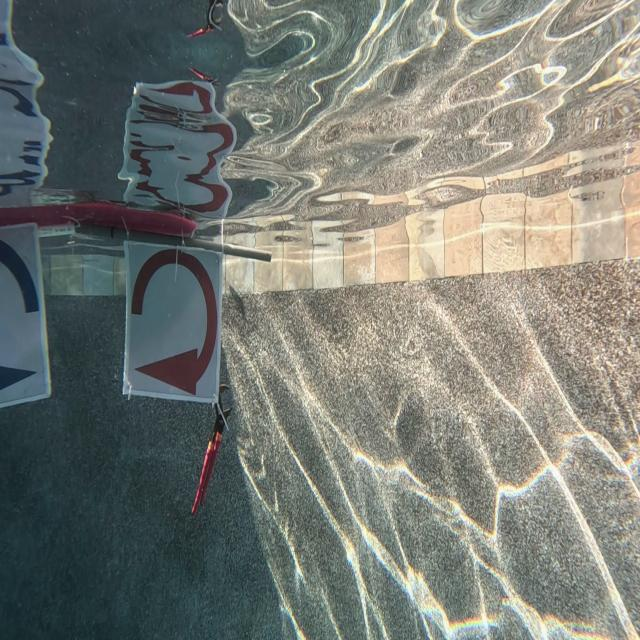blue_side: (0, 222, 40, 398)
red_side: (123, 242, 213, 400)
